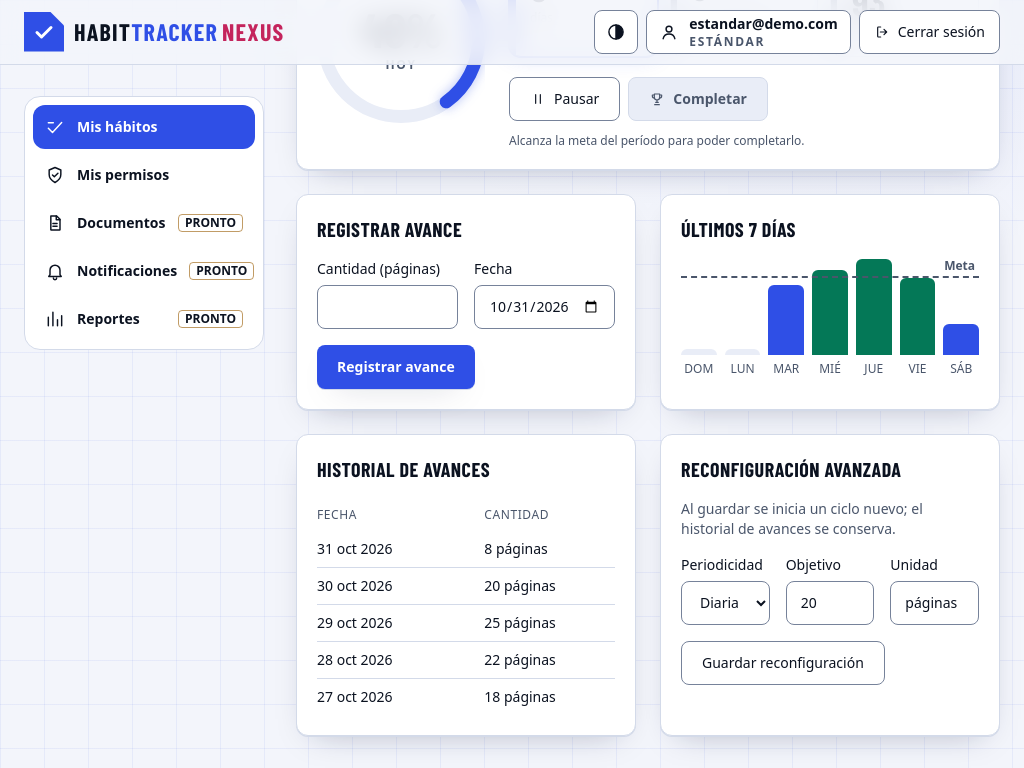
Test: permisos › con el permiso aplicado se puede reconfigurar el hábito
This screenshot has width=1024, height=768.
(page scrolled)
Replace the text in the number field labelled "Objetivo" with "30": coordinates (830, 603) [786,581,874,625]
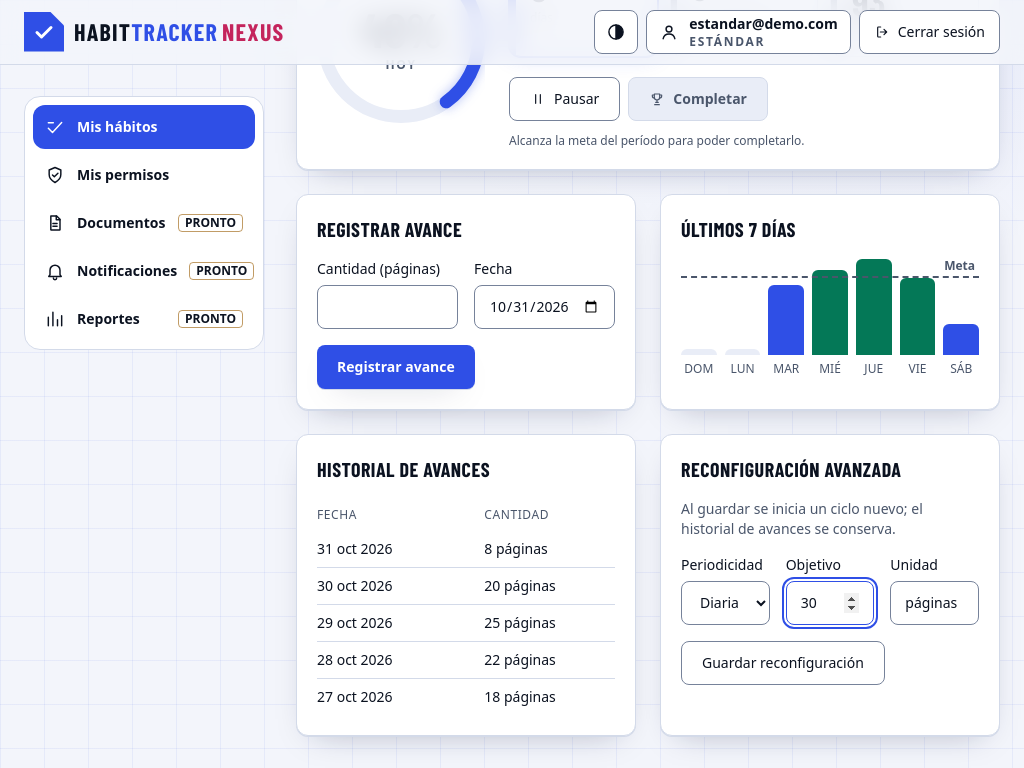
Click the button "Guardar reconfiguración": coordinates (783, 663) [681,641,885,685]
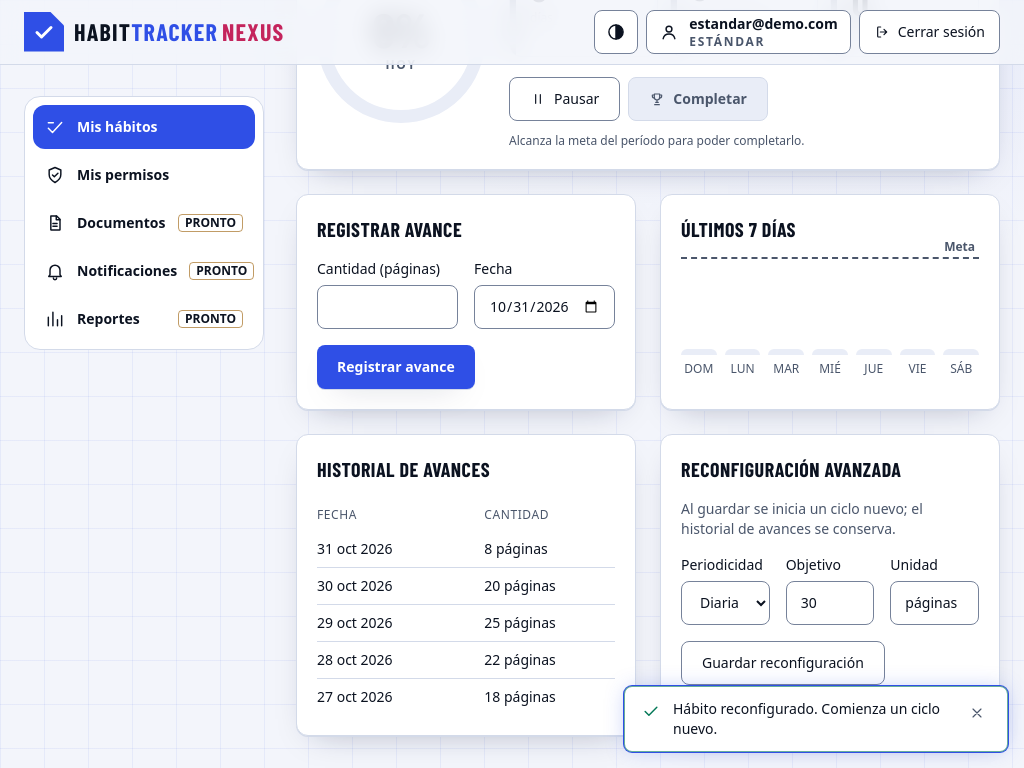
Expected: the text "Hábito reconfigurado. Comienza un ciclo nuevo." is shown, [673,699,951,739]
